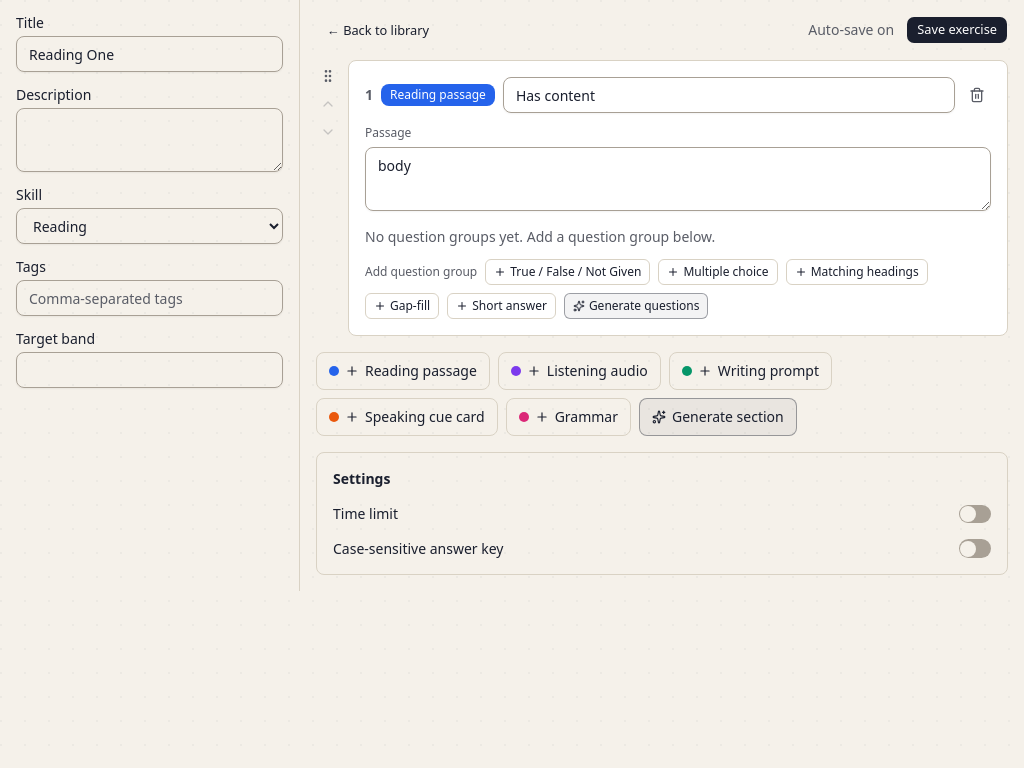
Test: ExerciseEditorPage — authoring (AC2/AC3/AC4/AC5) › deleting a section with content prompts a confirm, then removes it
The image size is (1024, 768).
Step 1. Click the button with test id "section-delete" → (977, 95), box [963, 81, 991, 109]
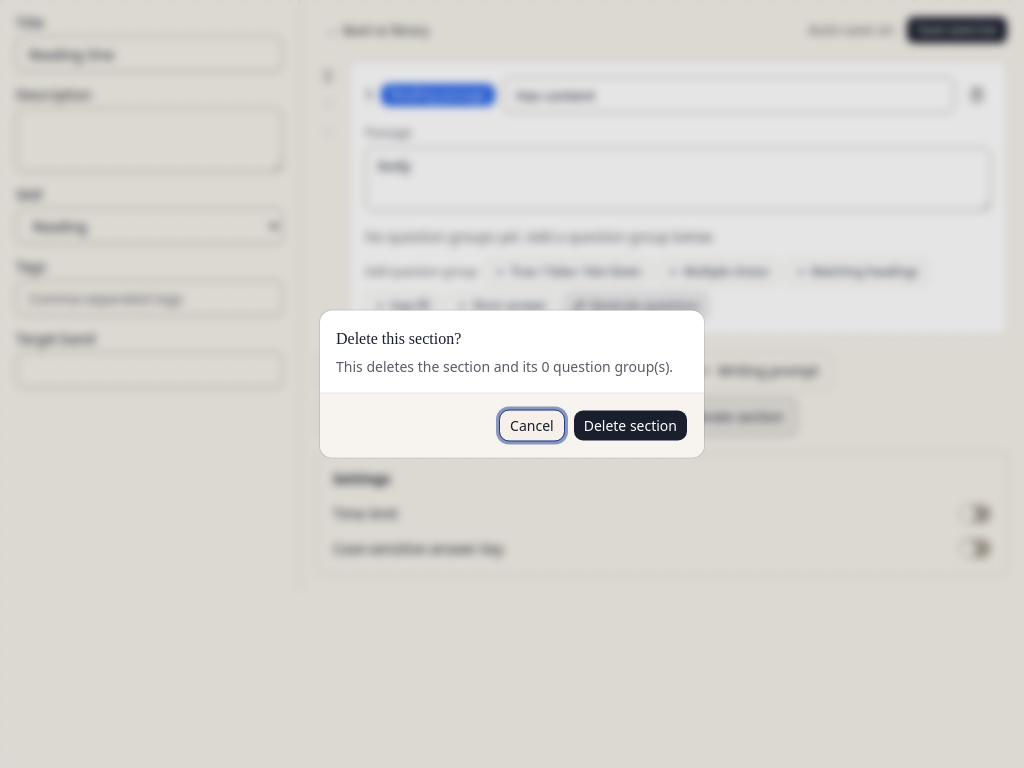
Expected: the dialog with test id "section-delete-confirm" is shown, [320, 310, 704, 458]
Step 2. Click the button with test id "section-delete-confirm-action" → (630, 426), box [573, 410, 688, 442]
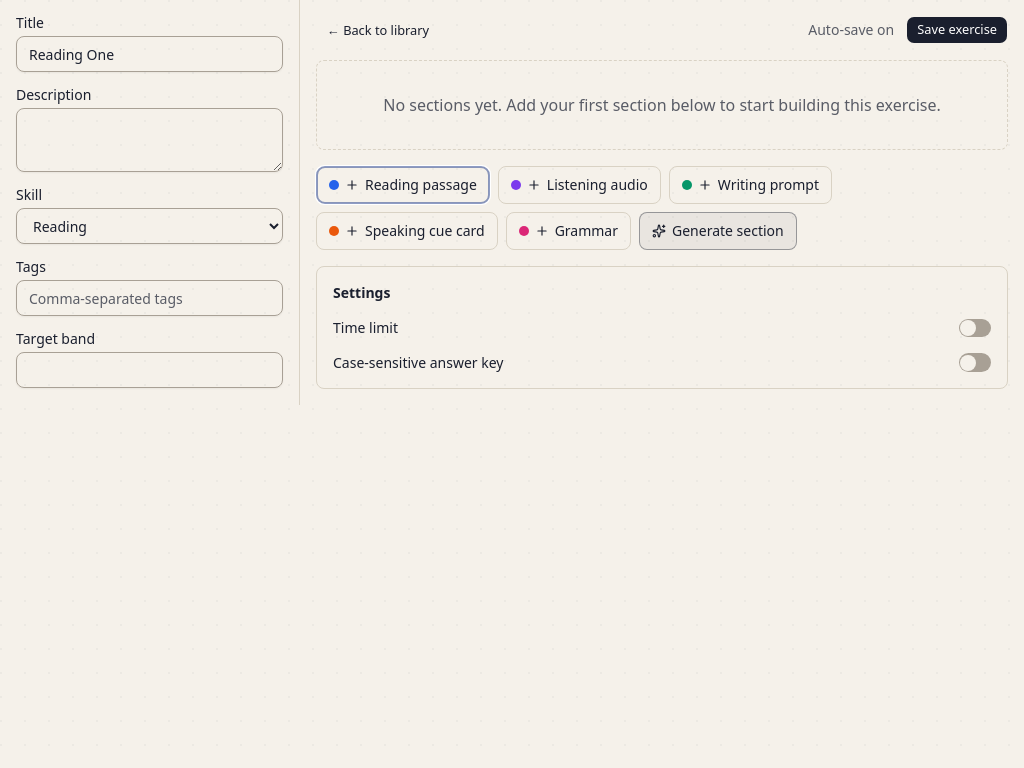
Expected: the element with test id "section-card" is gone
Expected: the text with test id "editor-empty-sections" is shown, [316, 60, 1008, 150]
